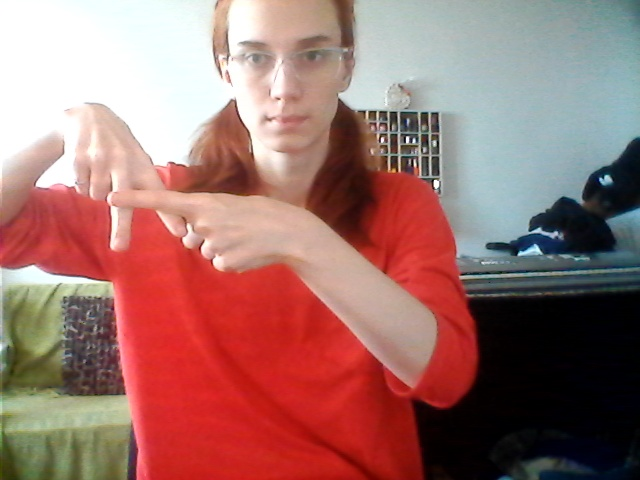a: (67, 154, 235, 287)
